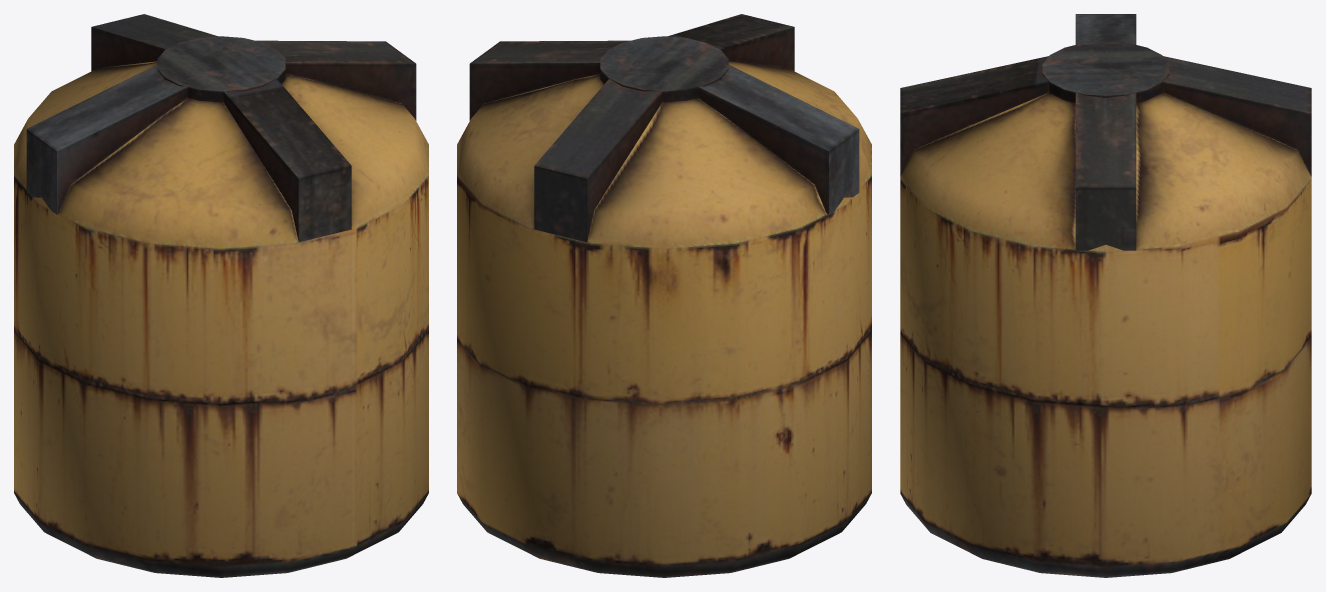
Rendered from WaterTank_S.FBX.
3 renders of one model, left to right at view 1: azimuth 30°, elevation 25°; view 2: azimuth 150°, elevation 25°; view 3: azimuth 270°, elevation 25°, orthographic.
Visible parts, largest first — view 1: WaterTank_S; view 2: WaterTank_S; view 3: WaterTank_S.
Boxes of the visible parts, bbox=[...] form: WaterTank_S: bbox=[14, 14, 428, 577]; WaterTank_S: bbox=[457, 14, 871, 577]; WaterTank_S: bbox=[900, 14, 1311, 577].
Size of the model in its own units: 162 by 183 by 160.
